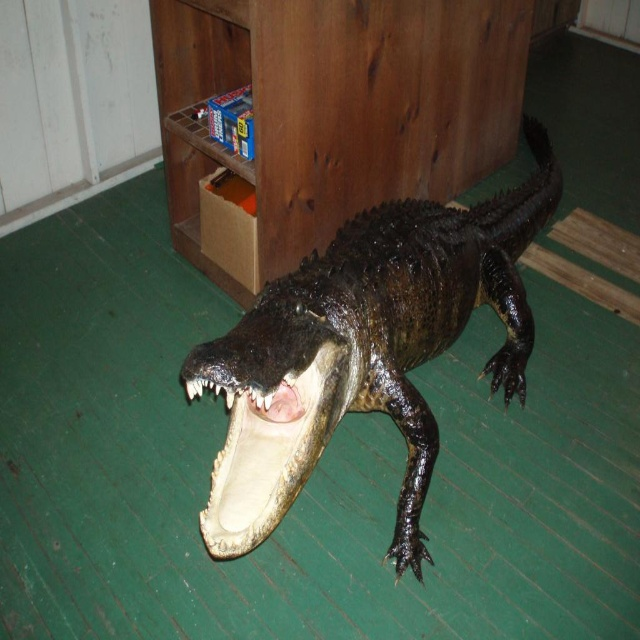Crocodile: (181, 112, 595, 591)
